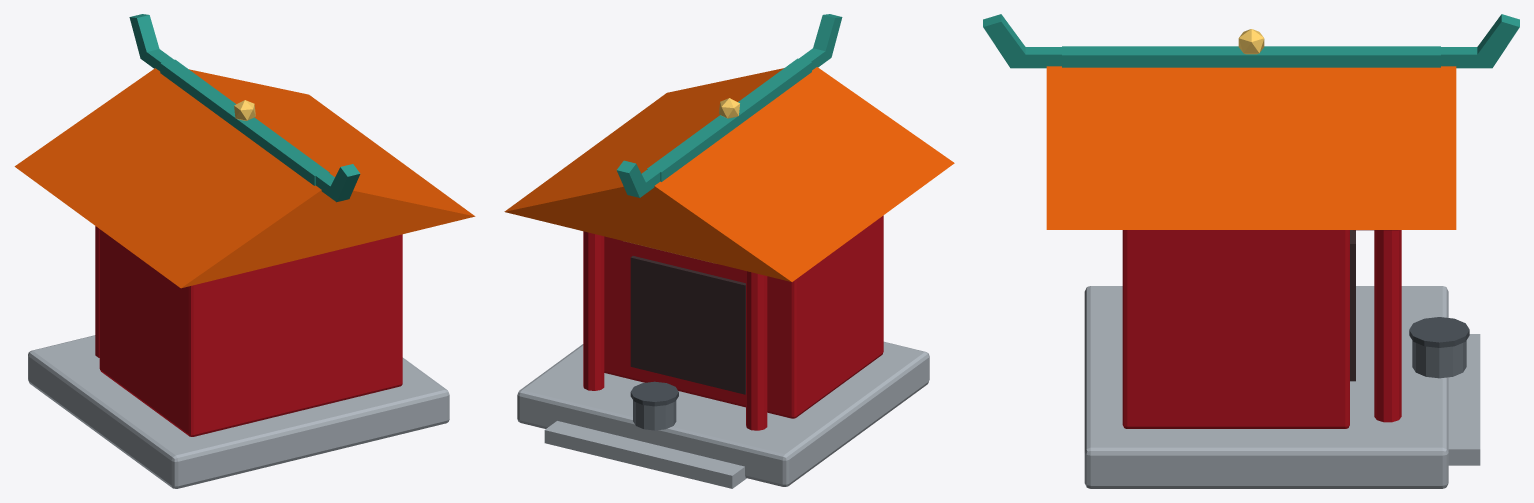
The model's file is st_shrine.glb.
3 renders of one model, left to right at view 1: azimuth 30°, elevation 25°; view 2: azimuth 150°, elevation 25°; view 3: azimuth 270°, elevation 25°, orthographic. The views are drawn at different scales.
Parts seen in each view (by area): view 1: prism, Cube.002, Cube, Cube.008, prism.002, prism.001, Cylinder; view 2: prism, Cube.002, Cube, Cube.003, Cube.001, Cube.008, Cylinder, Cylinder.001, prism.001, Cylinder.002, prism.002, Cylinder.003; view 3: prism, Cube.002, Cube, Cube.008, Cylinder.001, Cube.001, prism.001, prism.002, Cylinder.002, Cylinder.003, Cube.003.
Boxes of the visible parts, x1,y1,x2,y2 form: prism: (14, 68, 475, 288); Cube.002: (99, 229, 402, 436); Cube: (28, 335, 449, 488); Cube.008: (160, 59, 329, 185); prism.002: (129, 14, 173, 71); prism.001: (315, 164, 360, 202); Cylinder: (95, 226, 99, 357); prism: (504, 67, 954, 281); Cube.002: (604, 215, 883, 418); Cube: (517, 341, 929, 486); Cube.003: (630, 256, 745, 394); Cube.001: (544, 421, 746, 488); Cube.008: (647, 58, 811, 181); Cylinder: (746, 271, 767, 430); Cylinder.001: (583, 231, 604, 390); prism.001: (799, 14, 842, 70); Cylinder.002: (633, 400, 676, 430); prism.002: (616, 160, 660, 197); Cylinder.003: (630, 381, 678, 406); prism: (1046, 66, 1456, 229); Cube.002: (1122, 230, 1349, 428); Cube: (1084, 286, 1448, 488); Cube.008: (1062, 46, 1440, 67); Cylinder.001: (1374, 230, 1401, 422); Cube.001: (1448, 334, 1480, 465); prism.001: (983, 14, 1061, 68); prism.002: (1441, 14, 1519, 68); Cylinder.002: (1412, 340, 1466, 378); Cylinder.003: (1409, 317, 1469, 347); Cube.003: (1350, 230, 1355, 381).
Bounding box in the file's own units: 276 × 284 × 354.
